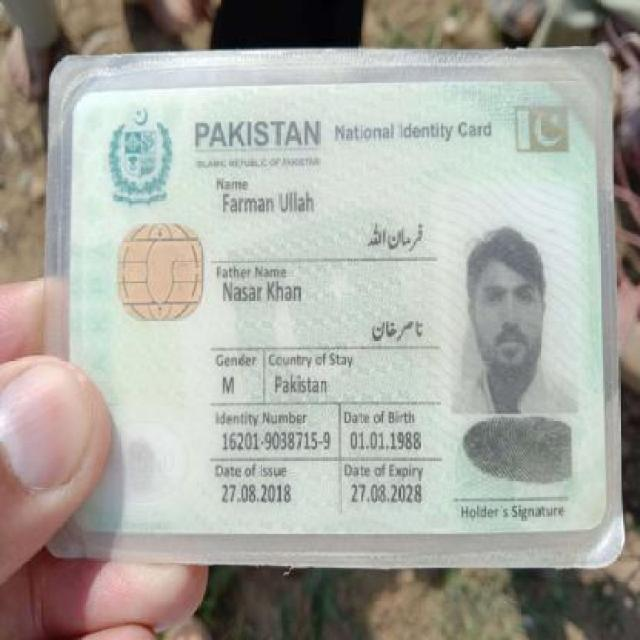Front: (59, 79, 616, 548)
